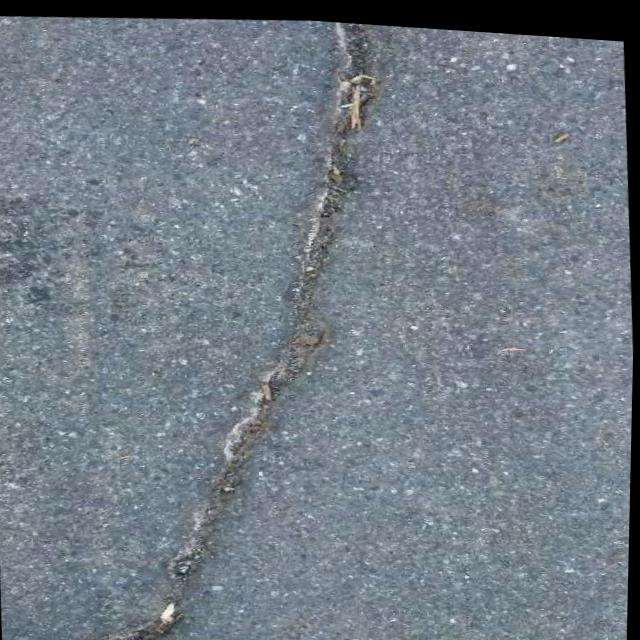Crack: (1, 1, 423, 640)
